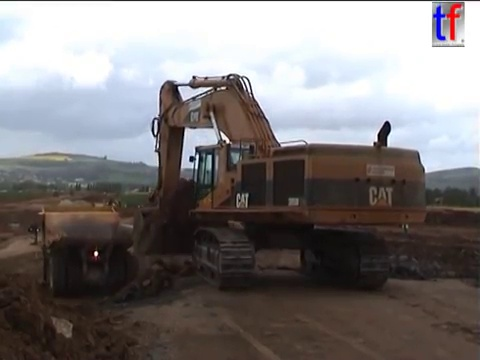excavator: (131, 71, 430, 293), (96, 194, 122, 212)
truck: (27, 198, 140, 297), (191, 198, 275, 254), (50, 189, 61, 200), (68, 189, 75, 198)
worker: (398, 210, 414, 237)
